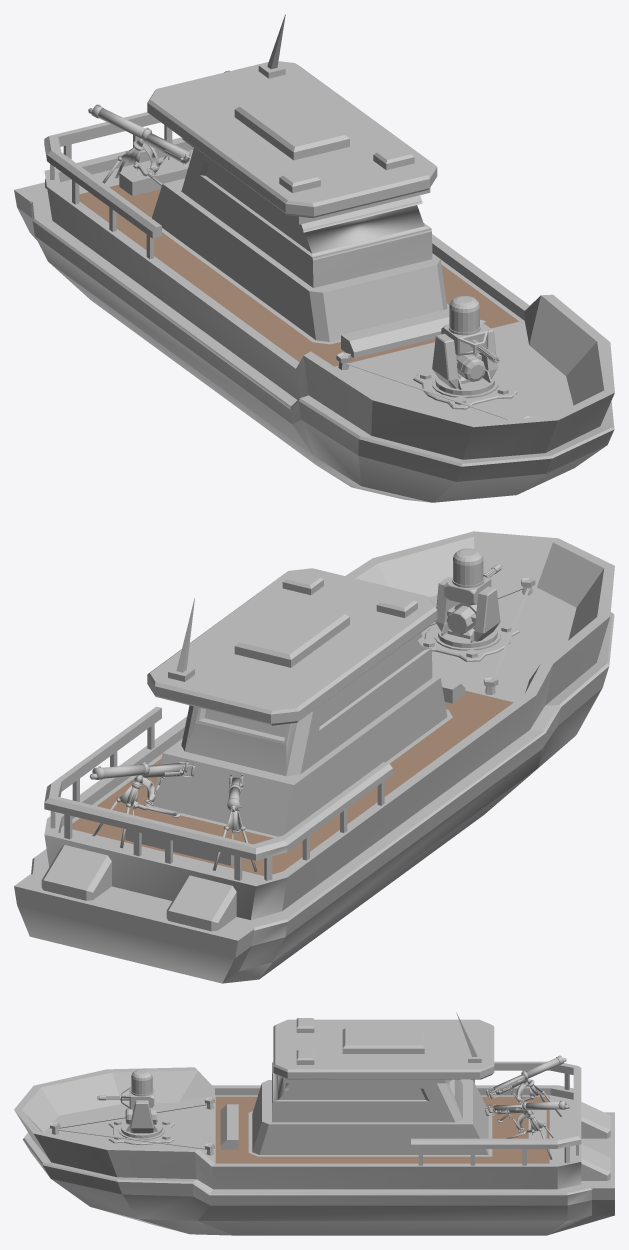
The model's file is small_classic2.fbx.
The picture shows the model from 3 angles, top to bottom: view 1: azimuth 30°, elevation 25°; view 2: azimuth 150°, elevation 25°; view 3: azimuth 270°, elevation 25°; orthographic projection. The views are drawn at different scales.
Parts seen in each view (by area): view 1: small_classic2; view 2: small_classic2; view 3: small_classic2.
Part boxes in pixels (x1,y1,x2,y2): small_classic2: (14, 14, 614, 502); small_classic2: (14, 531, 614, 983); small_classic2: (14, 1012, 614, 1235).
Size of the model in its own units: 542 by 596 by 1546.
